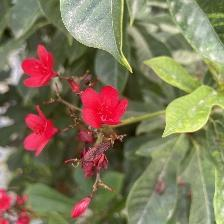jatropha: (82, 87, 130, 130), (21, 44, 59, 91)
